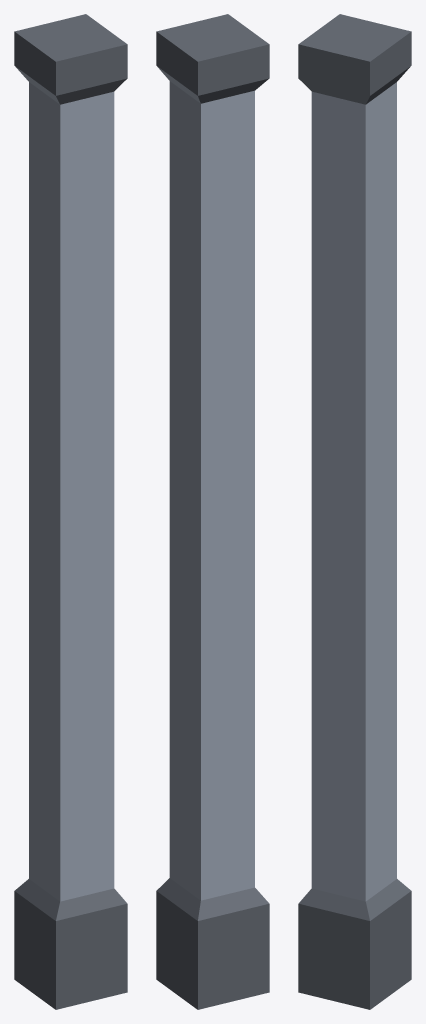
File: RoomPillar.fbx
3 views of the same model, side by side, from view 1: azimuth 30°, elevation 25°; view 2: azimuth 210°, elevation 25°; view 3: azimuth 330°, elevation 25° (orthographic).
Visible parts, largest first — view 1: RoomPillar; view 2: RoomPillar; view 3: RoomPillar.
Boxes of the visible parts, left/top/right/bottom form: RoomPillar: left=14, top=14, right=127, bottom=1009; RoomPillar: left=156, top=14, right=269, bottom=1009; RoomPillar: left=298, top=14, right=411, bottom=1009.
Size of the model in its own units: 63.2 by 799 by 63.2.
